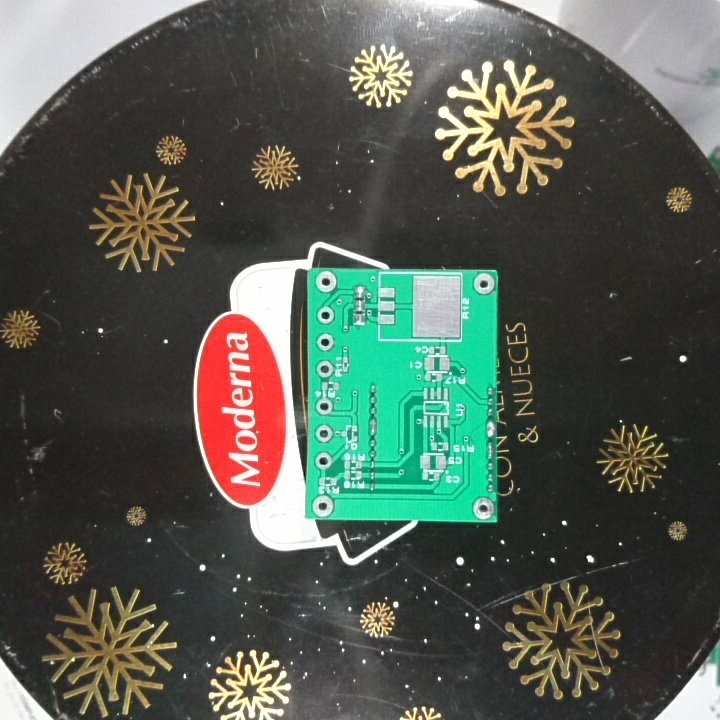F: (309, 492, 336, 518), (470, 495, 495, 520), (313, 269, 337, 295), (472, 272, 497, 296), (314, 304, 338, 326), (315, 332, 337, 354), (314, 395, 334, 418), (314, 422, 333, 445), (315, 360, 334, 380), (313, 451, 332, 471)
P: (484, 418, 496, 439), (367, 417, 379, 437), (485, 438, 495, 461)
